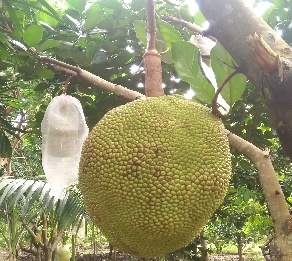Mit: (77, 95, 231, 259)
